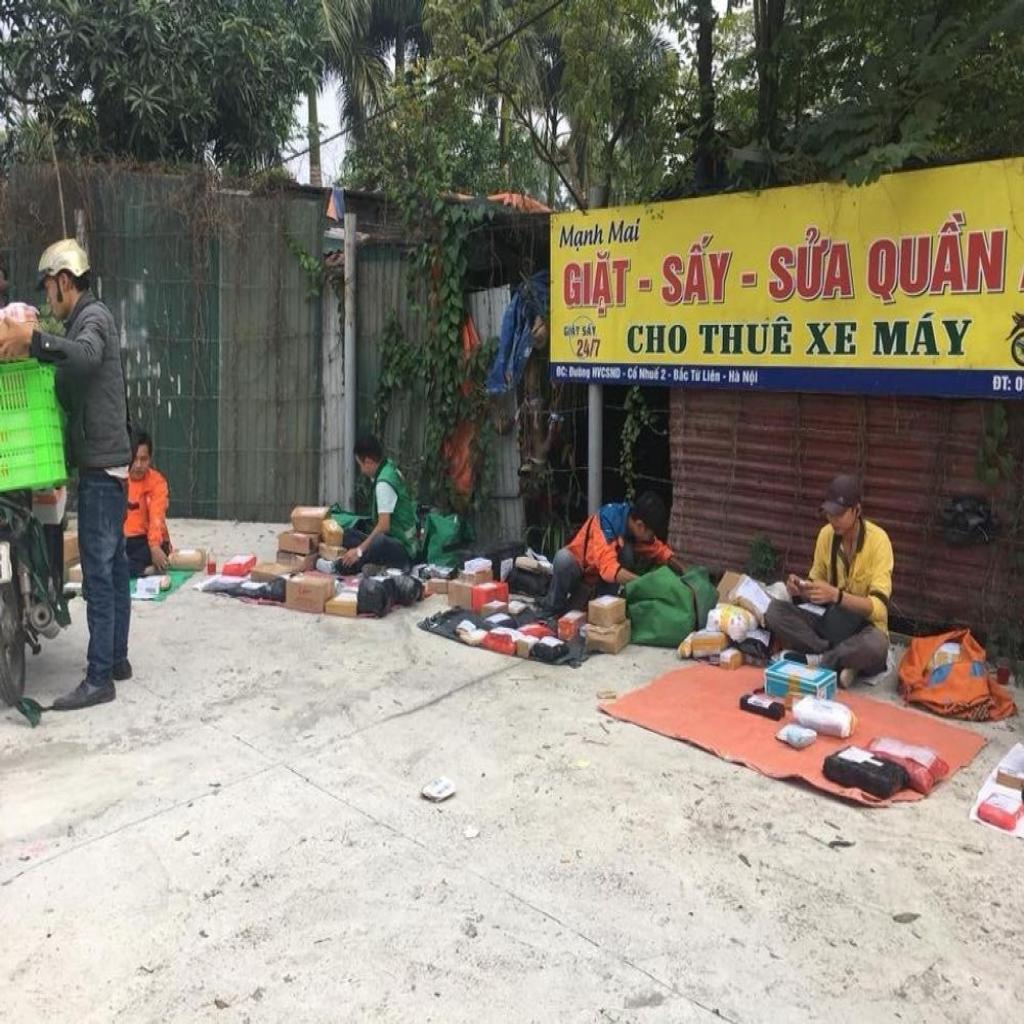text: (861, 204, 1011, 308), (764, 223, 861, 307), (656, 231, 736, 311), (868, 308, 977, 360), (559, 247, 633, 322), (695, 312, 796, 360), (803, 318, 860, 359), (625, 322, 689, 358), (557, 222, 606, 256), (606, 216, 645, 247), (575, 337, 603, 362), (737, 268, 760, 292), (635, 273, 655, 298), (562, 321, 582, 341), (703, 369, 728, 385), (638, 365, 661, 382), (568, 366, 592, 382), (741, 368, 760, 388), (582, 321, 599, 340), (673, 366, 690, 384), (555, 363, 569, 380), (627, 365, 640, 382), (690, 367, 703, 384), (728, 369, 741, 385), (660, 369, 668, 382), (668, 374, 672, 380)
